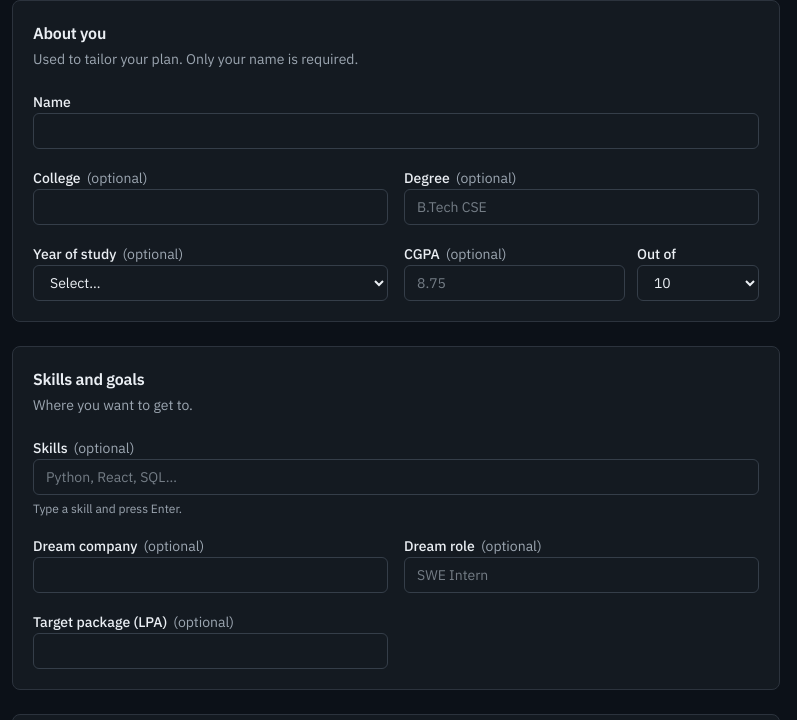
Test: ProfileForm › blocks a CGPA higher than the selected scale
This screenshot has width=797, height=720.
Type "Asha" into the field labelled "Name" at point(396, 131), box [33,113,759,149]
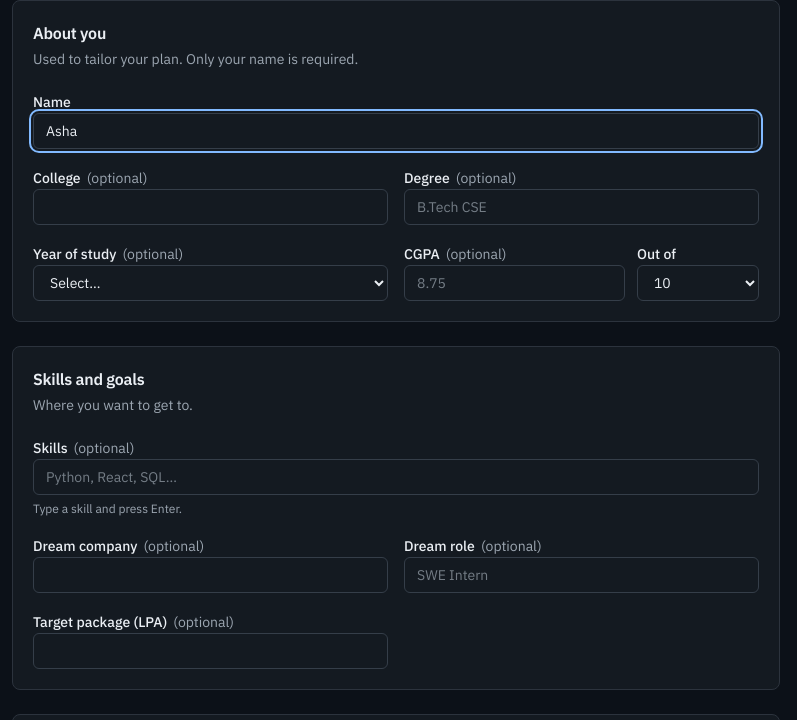
Type "11" into the field labelled "CGPA(optional)" at point(514, 283), box [404,265,625,301]
(page scrolled)
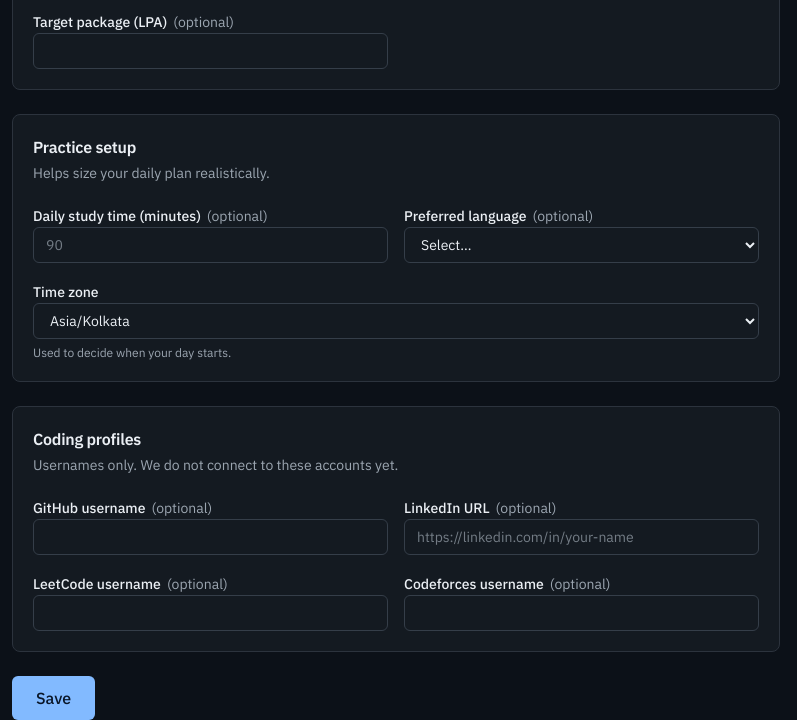
Click the button "Save" at point(54, 698), box [12,676,95,719]
(page scrolled)
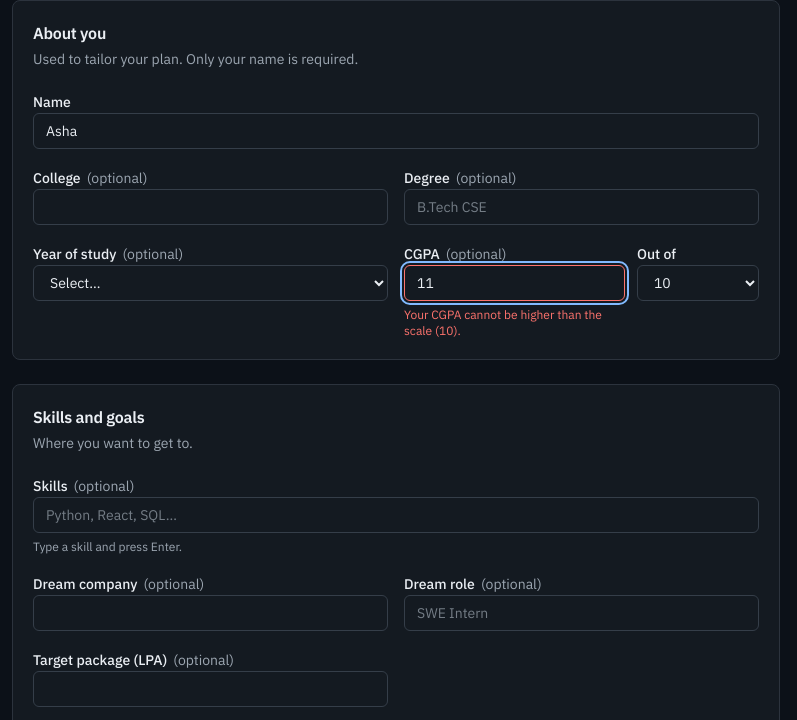
Now the text "Your CGPA cannot be higher than the scale (10)." is shown, box [404,307,625,339]
